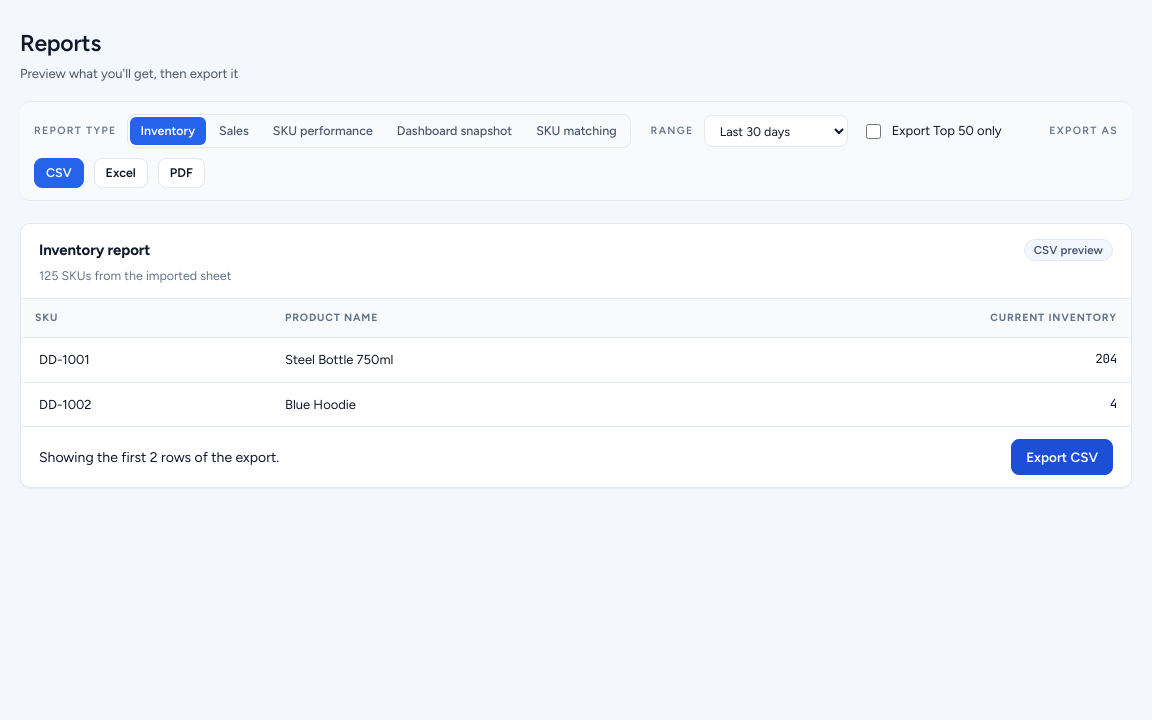
Test case: exporting › reports the failure inline rather than silently doing nothing
The width and height of the screenshot is (1152, 720).
Expected: the text "DD-1001" is shown, [21,338,271,382]
Click the button "Export CSV" at x=1062, y=457, box [1011,439,1113,475]
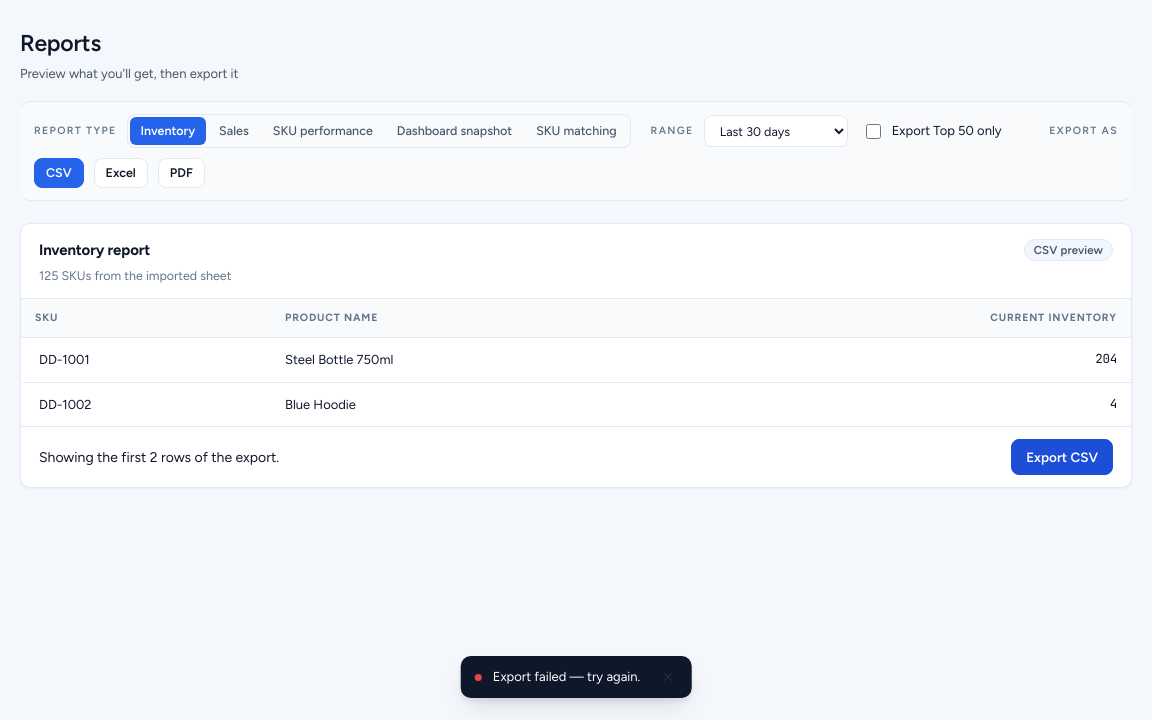
Result: the text "Export failed — try again." is shown at [493,667,640,687]
